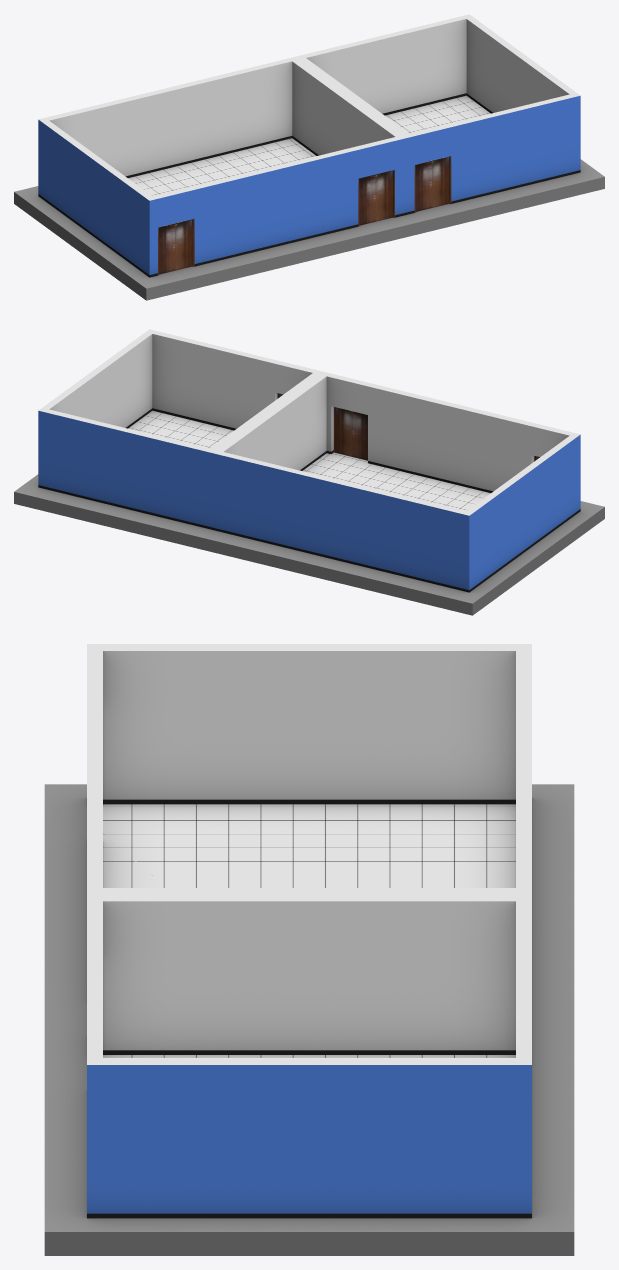
The model's file is room_jf_xl_bfzx.glb.
3 renders of one model, top to bottom at view 1: azimuth 30°, elevation 25°; view 2: azimuth 150°, elevation 25°; view 3: azimuth 270°, elevation 25°, orthographic. The views are drawn at different scales.
Visible parts, largest first — view 1: jf_xl_bfzx_qiang, jf_xl_bfzx_di, men175, men176, men177; view 2: jf_xl_bfzx_qiang, jf_xl_bfzx_di, men176; view 3: jf_xl_bfzx_qiang, jf_xl_bfzx_di.
Part boxes in pixels (<box>): jf_xl_bfzx_qiang: <box>38,14,580,277</box>; jf_xl_bfzx_di: <box>14,95,604,300</box>; men175: <box>414,156,451,212</box>; men176: <box>358,170,394,226</box>; men177: <box>158,218,194,275</box>; jf_xl_bfzx_qiang: <box>38,329,580,592</box>; jf_xl_bfzx_di: <box>14,410,604,615</box>; men176: <box>334,407,367,460</box>; jf_xl_bfzx_qiang: <box>87,644,531,1218</box>; jf_xl_bfzx_di: <box>44,784,574,1255</box>.
Size of what is drawn, in the model's own units: 20 by 3.7 by 10.
3 materials, 3 textured.
